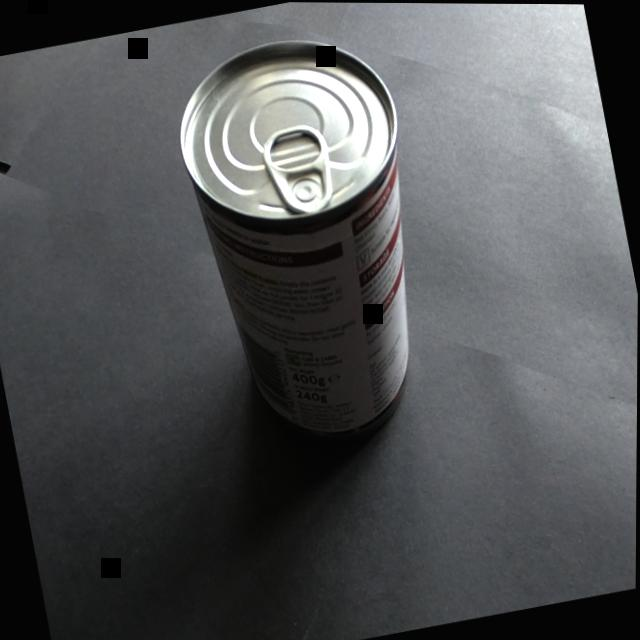Redbeans: (154, 1, 466, 476)
